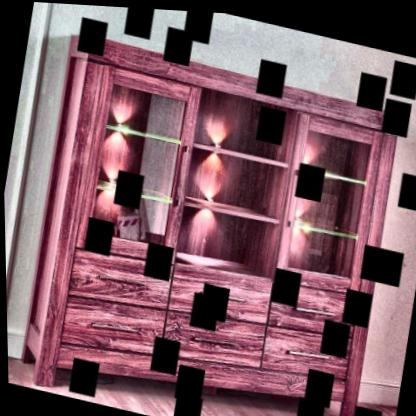Sideboard: (16, 29, 405, 416)
